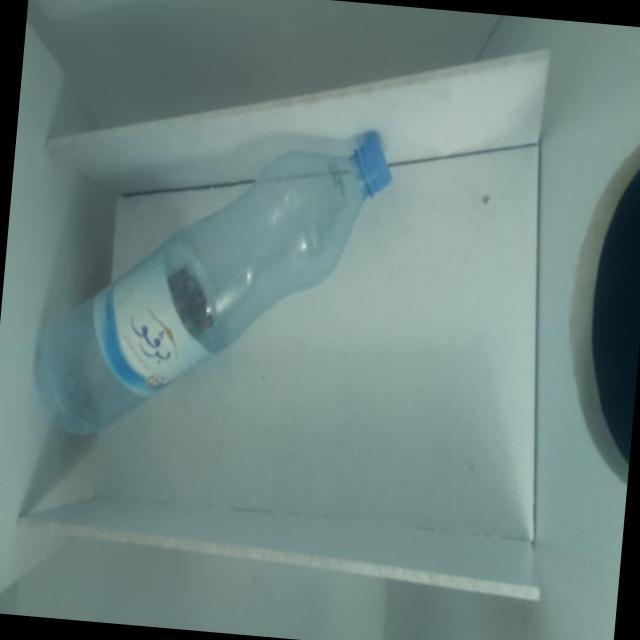good: (10, 98, 410, 490)
